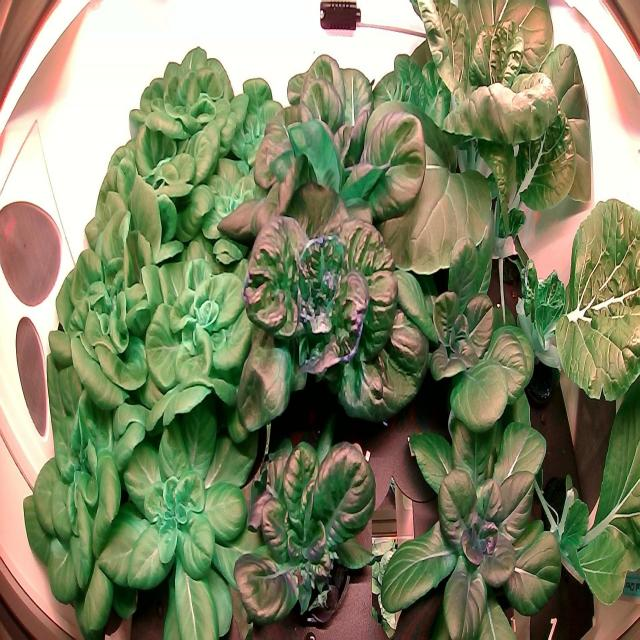Ready: (215, 167, 437, 460), (16, 348, 170, 640), (39, 212, 190, 461), (248, 39, 423, 242), (82, 97, 231, 273), (122, 28, 245, 169)
young: (369, 391, 579, 640), (92, 379, 276, 640), (221, 404, 388, 640), (373, 222, 545, 437), (135, 227, 257, 428), (185, 146, 276, 272), (220, 68, 293, 173)
